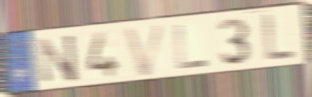3: (217, 16, 253, 66)
4: (86, 29, 121, 80)
L: (172, 23, 209, 71), (262, 12, 296, 62)
N: (37, 32, 80, 84)
V: (121, 21, 168, 79)
